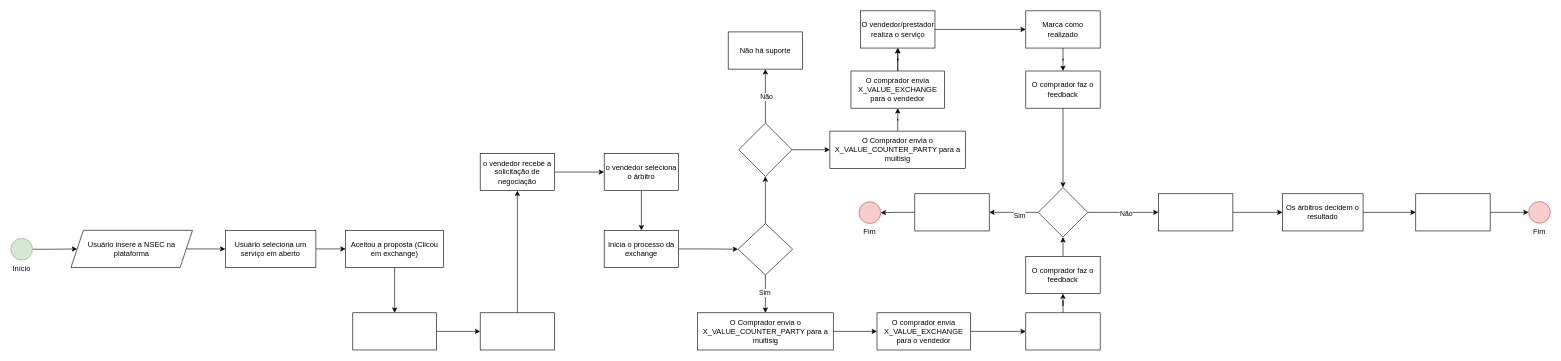
Image size: 1561x361. Some labels were removed from this diagram. Here are the shapes that lost their labels. From the top down, the centre of each, then its label:
[765,149]: É um serviço
[951,212]: Processo finalizado Valores Liberados
[1063,212]: Feedback Positivo?
[1195,212]: Aberto processo de arbitragem
[1452,212]: Os valores são liberados para as partes
[765,249]: É troca de crypto?
[394,331]: O comprador faz o bloqueio enviando X_VALUE_LOCK sats
[517,331]: o comprador seleciona o árbitro
[1062,331]: O comprador marca como enviado
